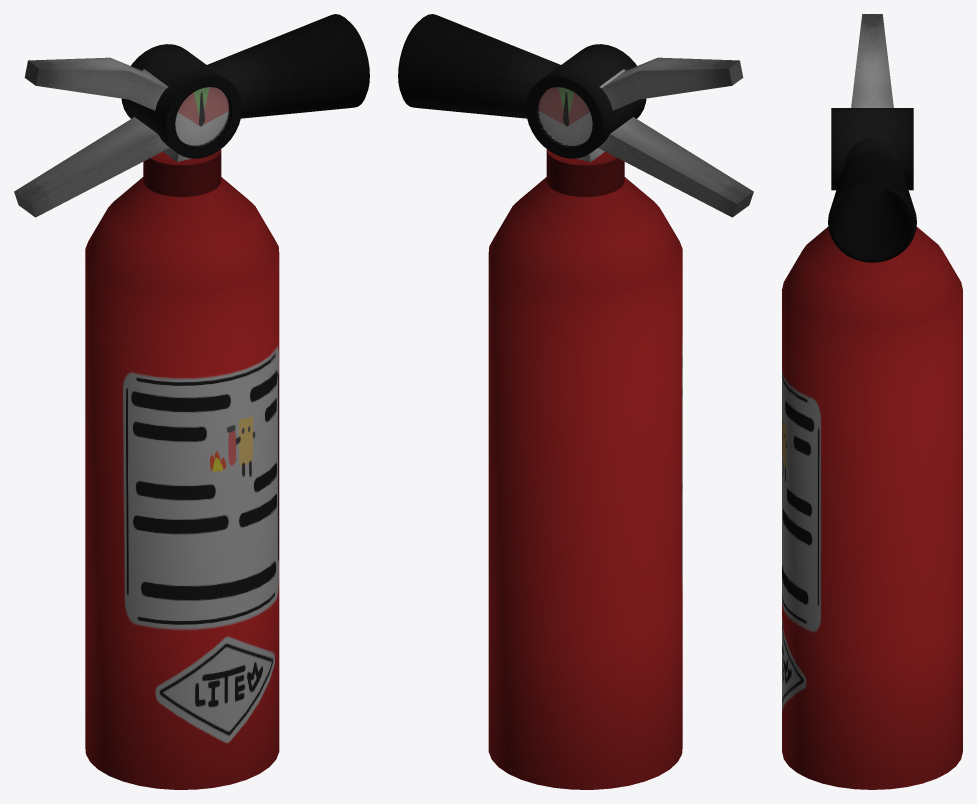
The model's file is fire ex.fbx.
3 renders of one model, left to right at view 1: azimuth 30°, elevation 25°; view 2: azimuth 150°, elevation 25°; view 3: azimuth 270°, elevation 25°, orthographic. The views are drawn at different scales.
Visible parts, largest first — view 1: Cylinder.023, Cylinder.024; view 2: Cylinder.023, Cylinder.024; view 3: Cylinder.023, Cylinder.024.
Boxes of the visible parts, <box> form: Cylinder.023: <box>85,149,279,789</box>; Cylinder.024: <box>14,14,369,217</box>; Cylinder.023: <box>488,149,682,789</box>; Cylinder.024: <box>398,14,753,217</box>; Cylinder.023: <box>782,227,962,789</box>; Cylinder.024: <box>828,14,916,262</box>.
Bounding box in the file's own units: 68.18 × 144 × 35.27.
2 materials, 2 textured.
